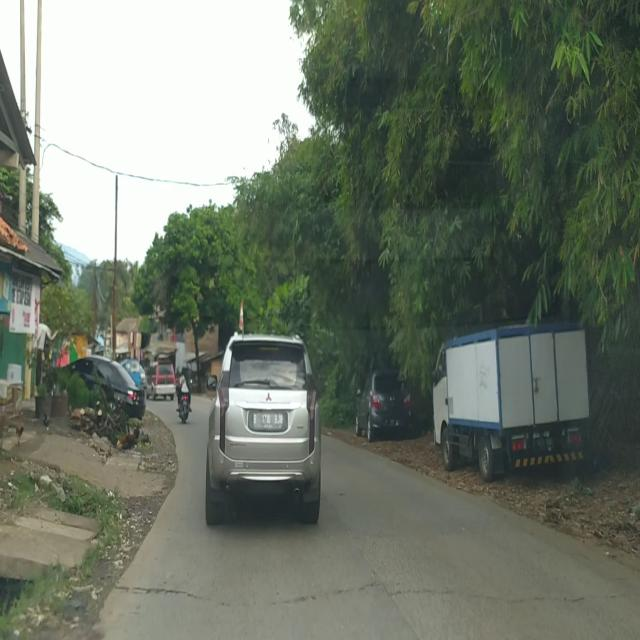Sewer Cover: (116, 578, 621, 610)
